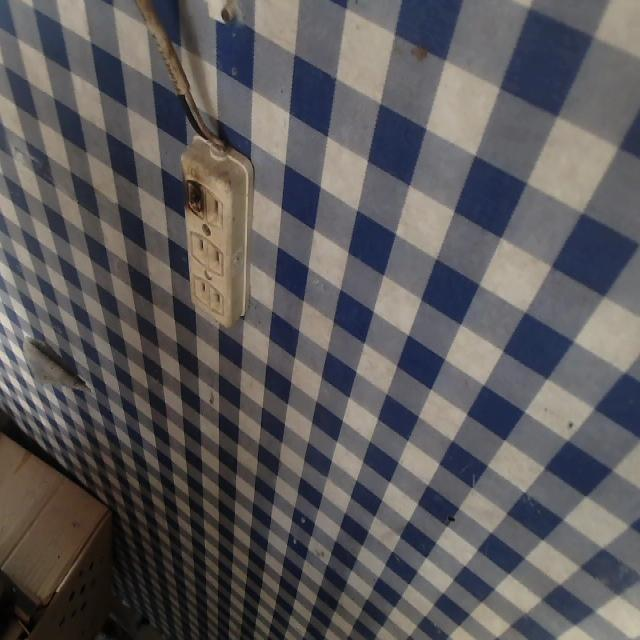-: (178, 169, 211, 227)
